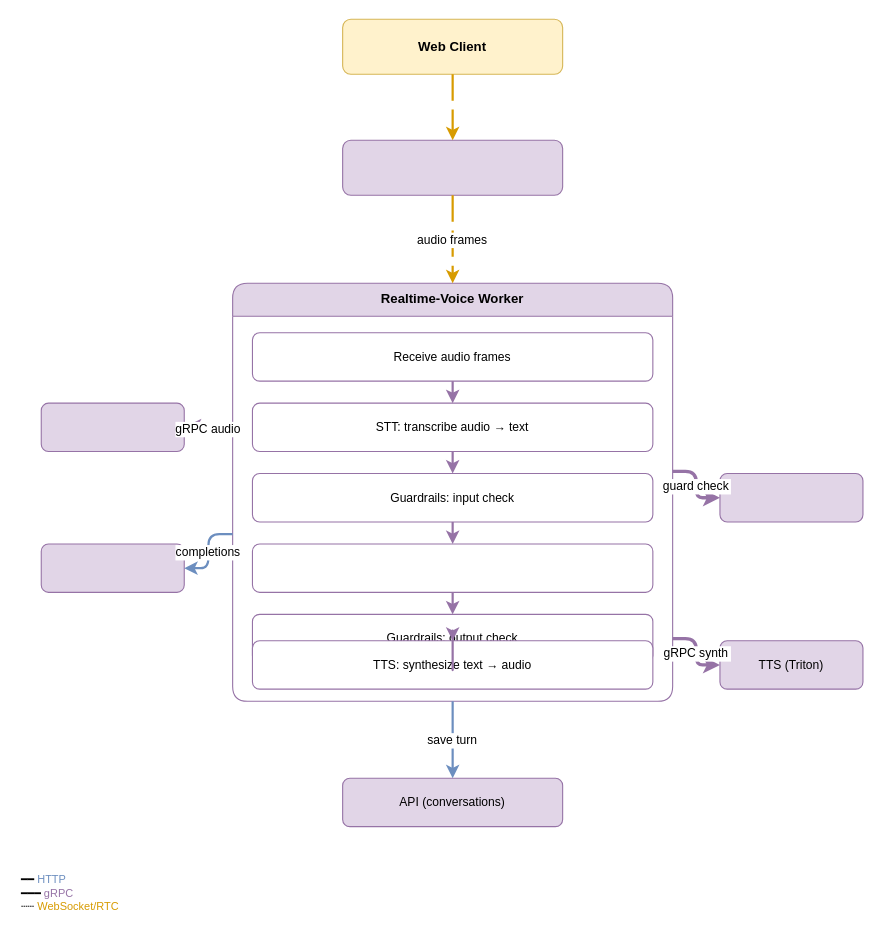
Image size: 882x952. Some labels were removed from this diagram. Here are the shapes that lost their labels. From the top down, the centre of each, then its label:
At point (452, 167): "LiveKit (WebRTC)".
At point (112, 427): "STT (Triton)".
At point (791, 497): "Guardrails".
At point (112, 567): "LLM (vLLM)".
At point (452, 567): "LLM: generate response".
